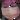with_mask: (1, 2, 20, 20)
